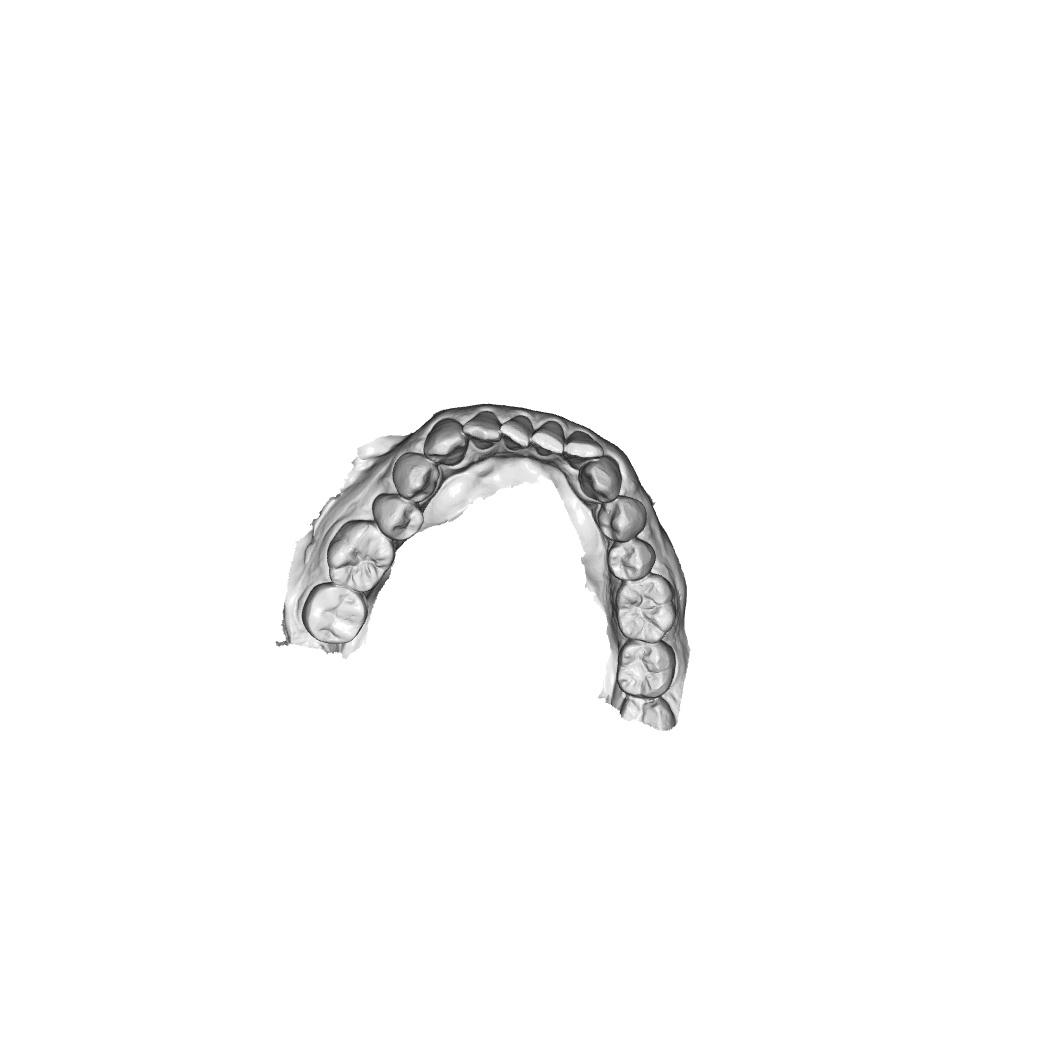canine: (423, 417, 470, 467), (578, 455, 623, 504)
incisor: (564, 430, 604, 470), (462, 410, 501, 450), (529, 419, 567, 458), (500, 414, 534, 452)
molar: (326, 519, 396, 594), (614, 573, 678, 644), (300, 581, 368, 646), (615, 639, 676, 699)
premolar: (371, 492, 426, 542), (391, 450, 441, 504), (596, 495, 648, 543), (606, 540, 658, 582)
